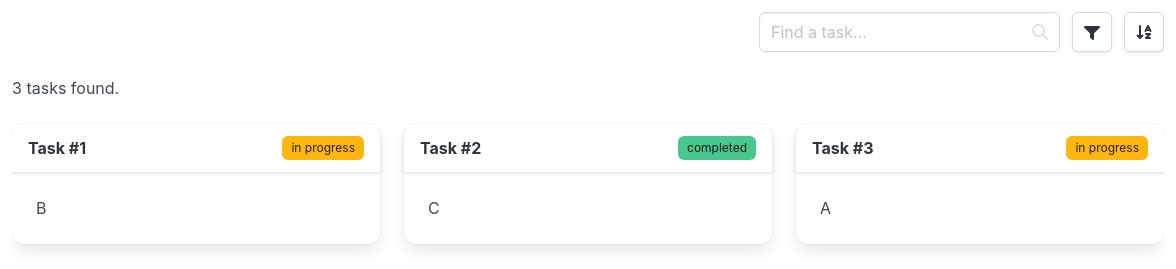
HomeClient › filters todos by searchText
Step 1. Type "C" into the field with test id "search-input" → {"x": 910, "y": 32}, box [759,12,1060,52]
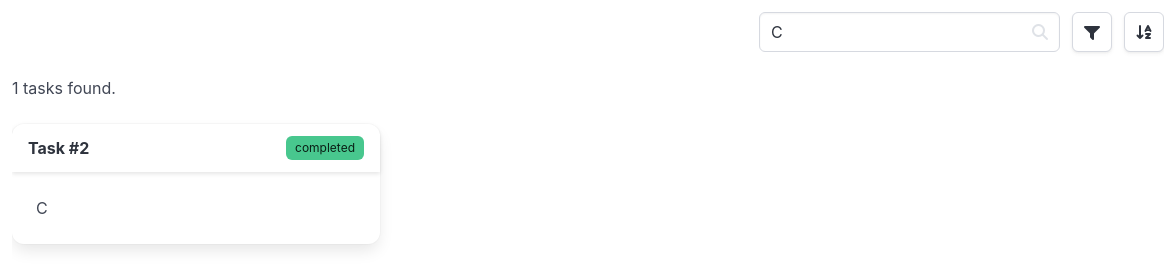
Now the number of elements with test id "todo-preview" is 1, box [12,124,380,244]
